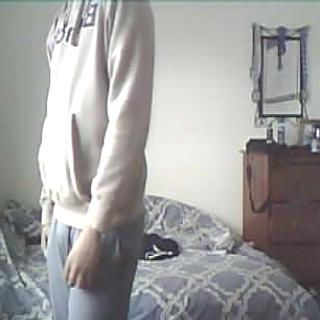Blue Sweatpants: (40, 217, 145, 320)
Yellow Hoodie: (36, 1, 159, 221)
